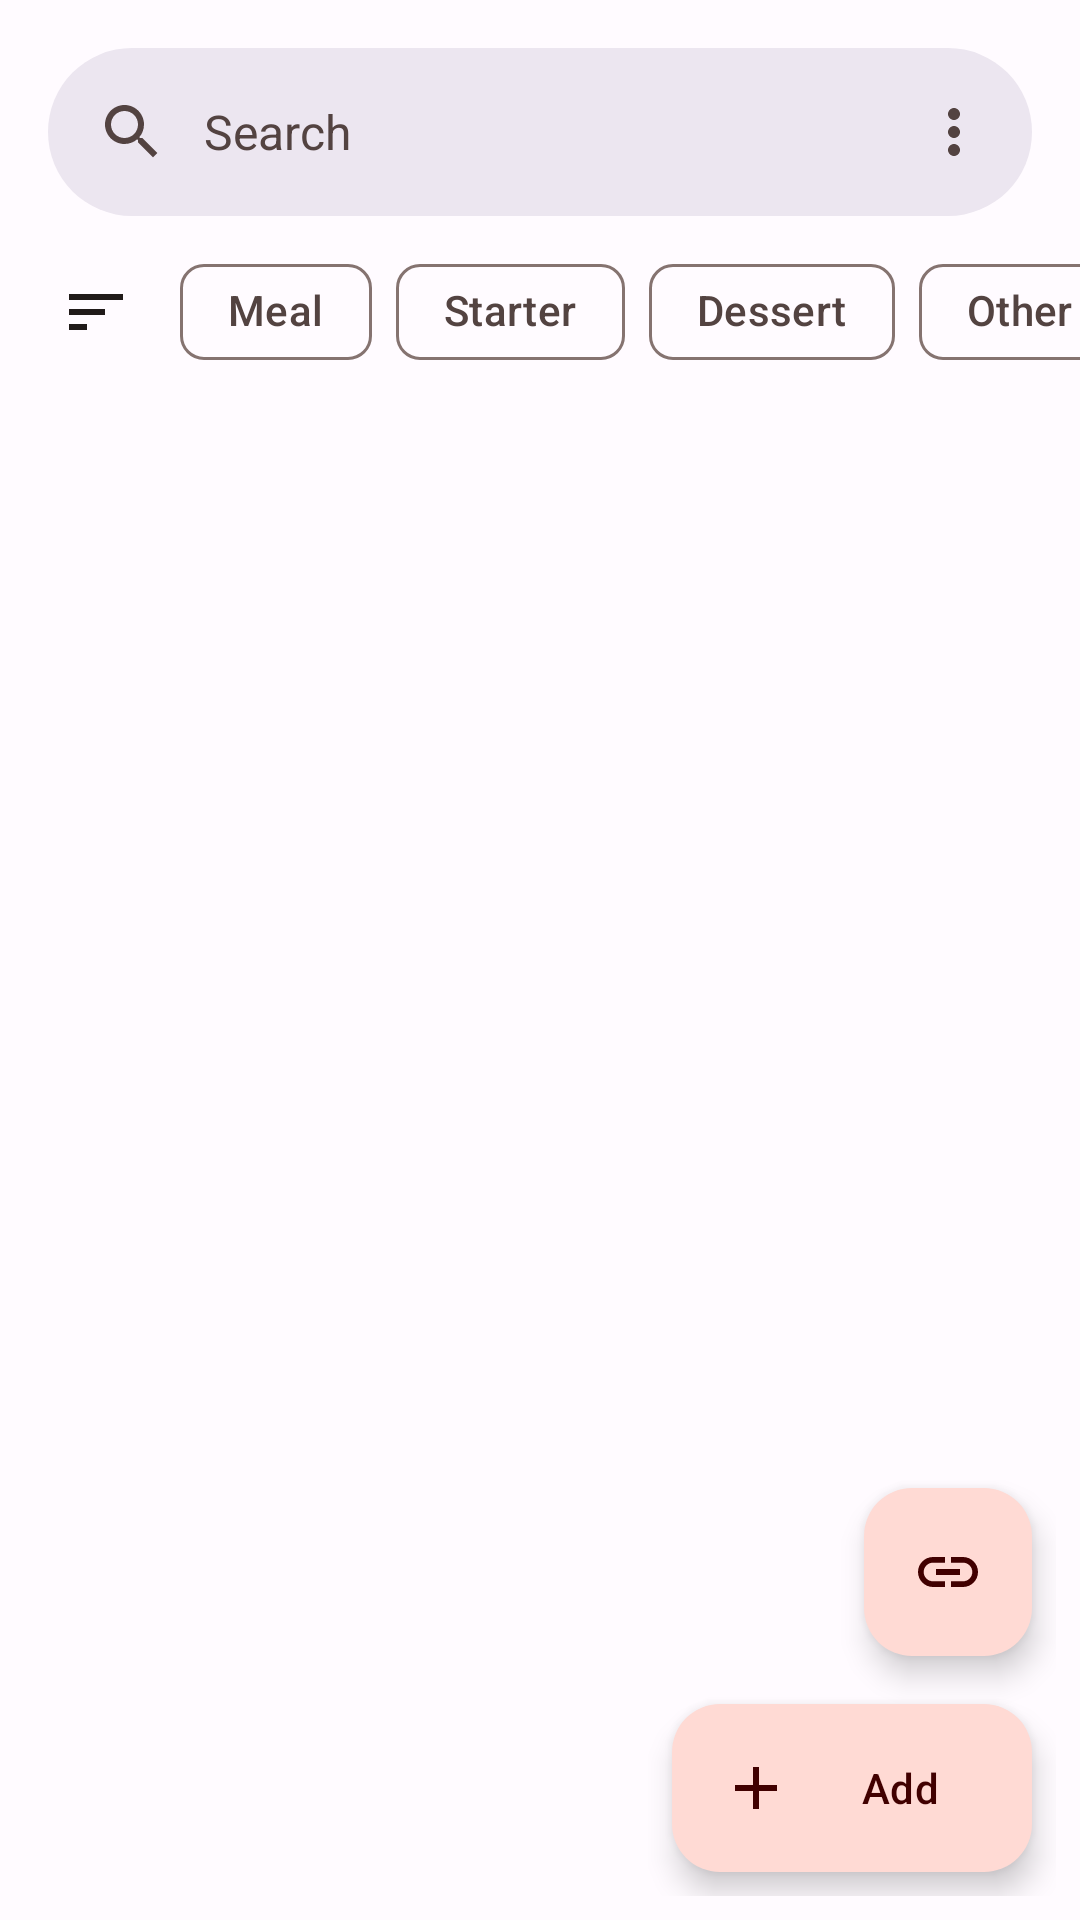

Screen size 1080w x 1920h. Icon name, then its box in pixels as (x1, y1, x2, y2):
link: (864, 1488, 1032, 1656)
